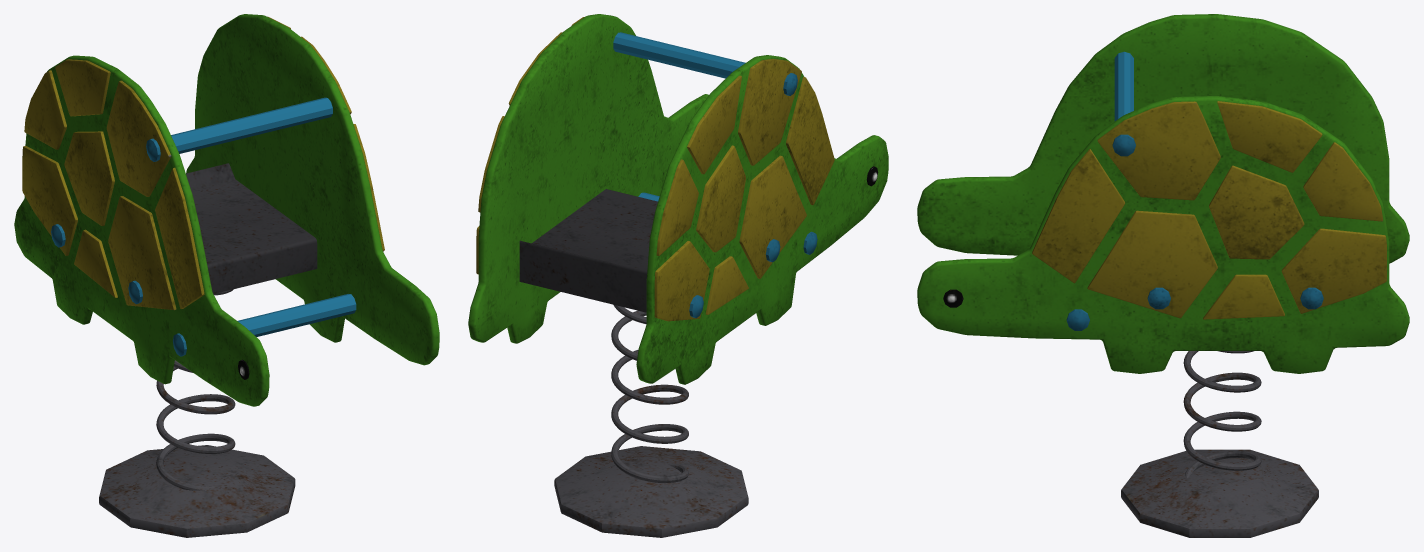
The model's file is Spring_Rocker01.fbx.
3 renders of one model, left to right at view 1: azimuth 30°, elevation 25°; view 2: azimuth 150°, elevation 25°; view 3: azimuth 270°, elevation 25°, orthographic.
Visible parts, largest first — view 1: SpringRocker001; view 2: SpringRocker001; view 3: SpringRocker001.
Boxes of the visible parts, box(x1,y1,x2,y2) form: SpringRocker001: box(14, 14, 439, 537); SpringRocker001: box(468, 14, 888, 537); SpringRocker001: box(917, 14, 1409, 537).
Size of the model in its own units: 15.5 by 34.05 by 33.85.
